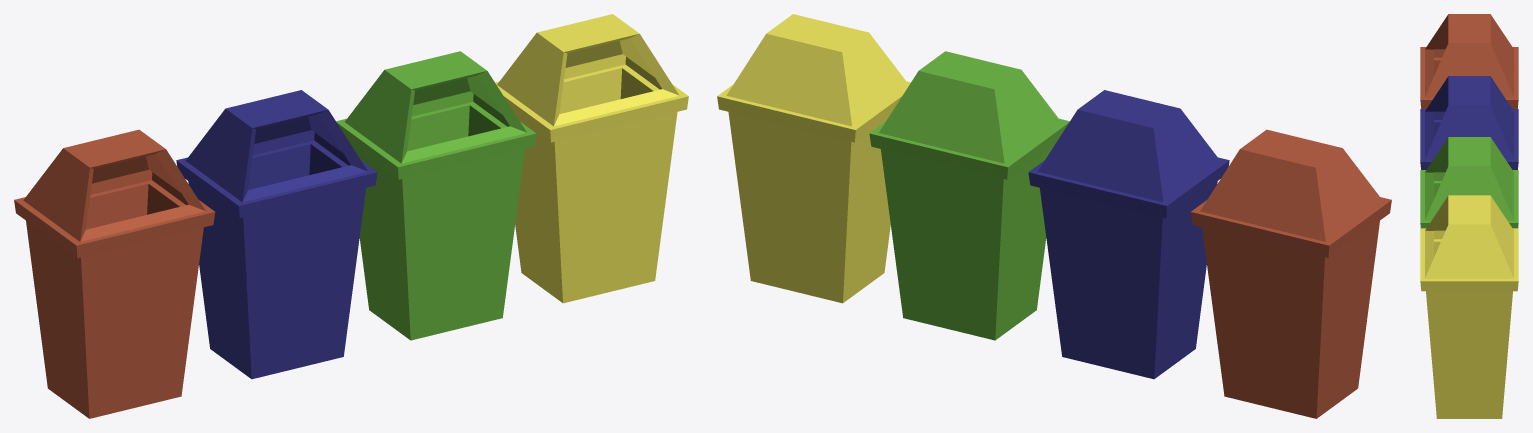
The model's file is Botes2.fbx.
3 views of the same model, side by side, from view 1: azimuth 30°, elevation 25°; view 2: azimuth 150°, elevation 25°; view 3: azimuth 270°, elevation 25° (orthographic). The views are drawn at different scales.
Parts seen in each view (by area): view 1: pCube1, pCube2, pCube3, pCube4; view 2: pCube1, pCube2, pCube3, pCube4; view 3: pCube4, pCube1, pCube2, pCube3.
Boxes of the visible parts, box(x1,y1,x2,y2) form: pCube1: box(14, 129, 215, 418); pCube2: box(176, 90, 377, 379); pCube3: box(336, 51, 536, 340); pCube4: box(495, 14, 688, 303); pCube1: box(1190, 129, 1391, 418); pCube2: box(1028, 90, 1229, 379); pCube3: box(869, 51, 1069, 340); pCube4: box(717, 14, 910, 303); pCube4: box(1420, 195, 1518, 418); pCube1: box(1420, 14, 1518, 108); pCube2: box(1420, 76, 1518, 169); pCube3: box(1420, 137, 1518, 228).
Size of the model in its own units: 6.08 by 2.31 by 1.08.
